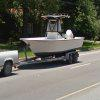Boat: (12, 11, 88, 66)
